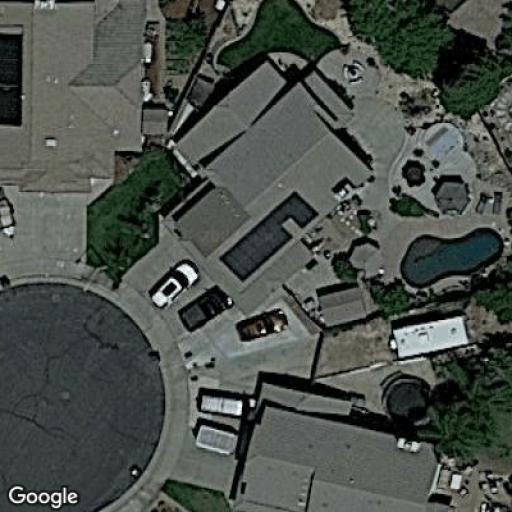solar-panel: (218, 188, 319, 283), (0, 32, 26, 128)
